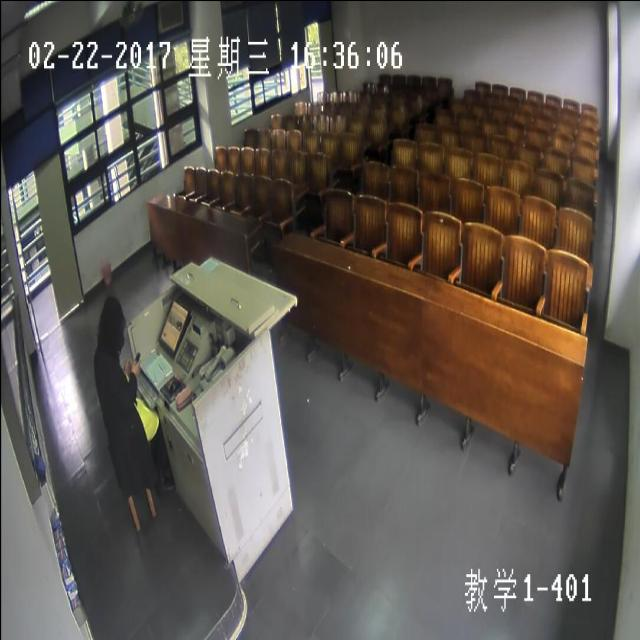person: (94, 290, 126, 359)
